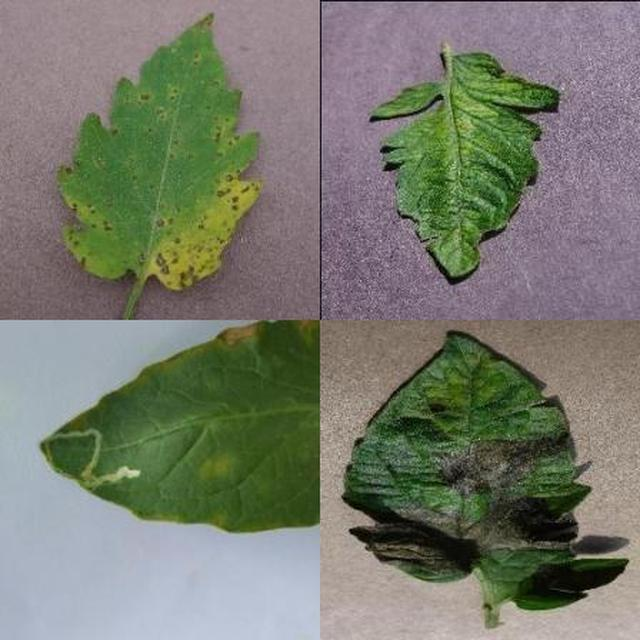Septoria Leaf: (229, 218, 640, 640)
